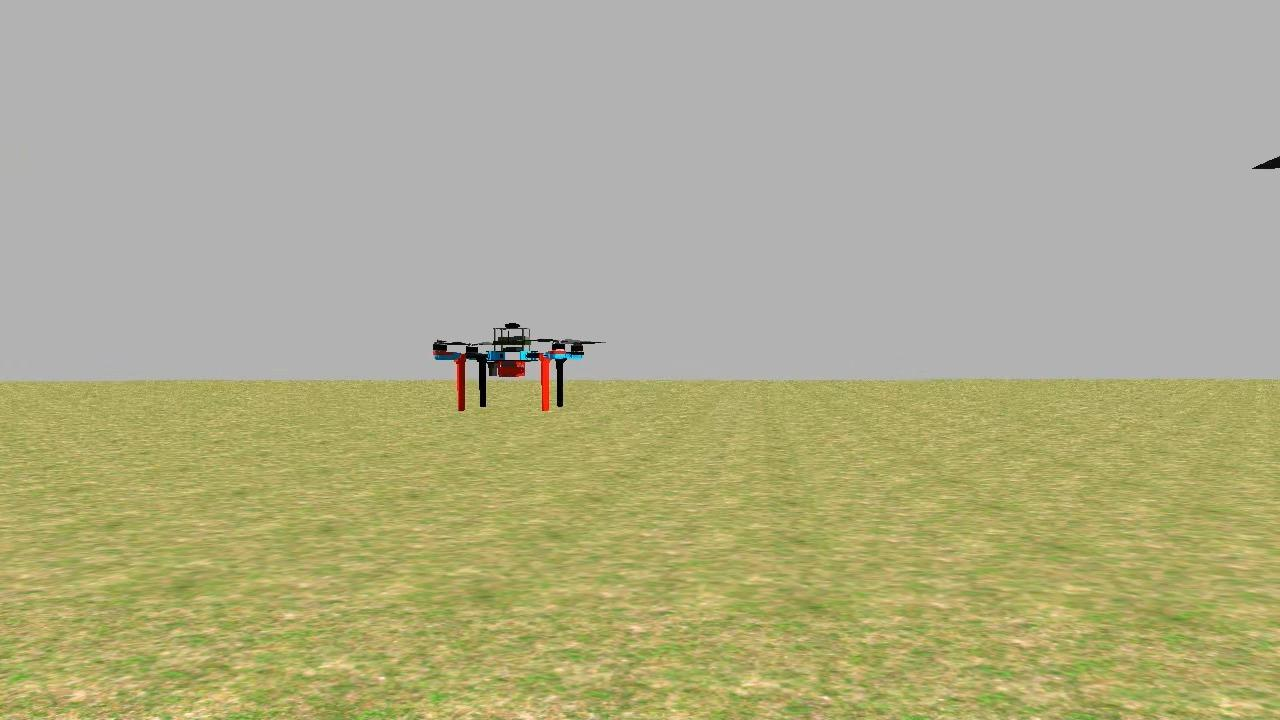UAV: (424, 299, 593, 428)
